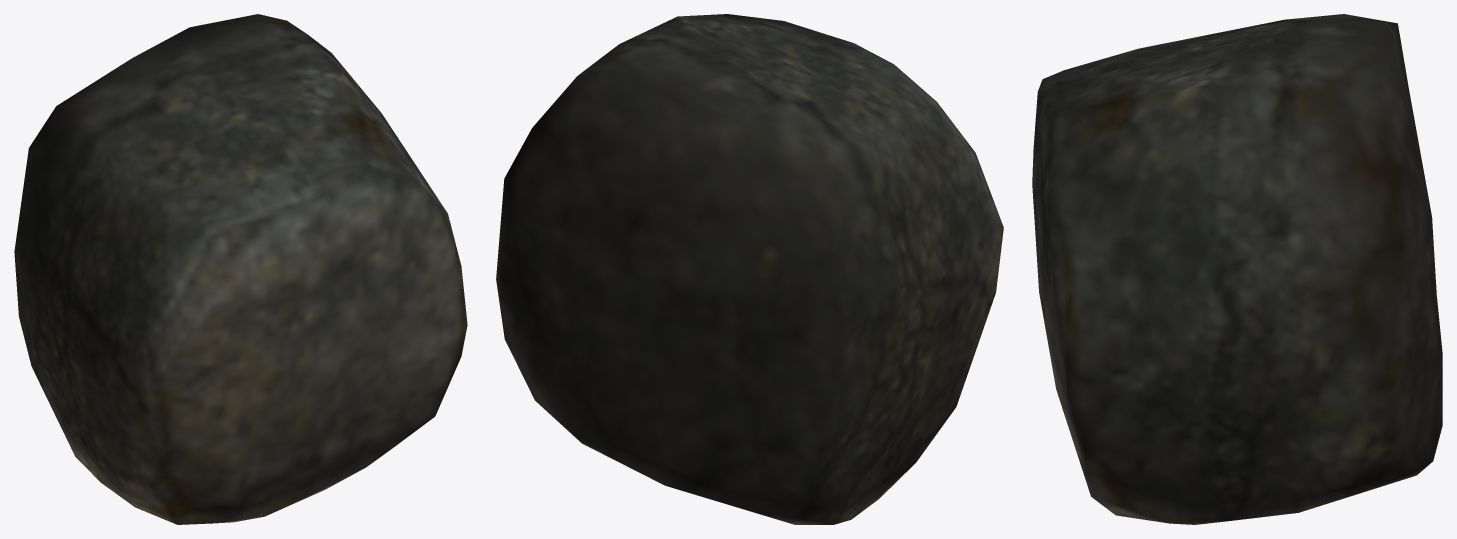
File: rock_small_03.obj
3 views of the same model, side by side, from view 1: azimuth 30°, elevation 25°; view 2: azimuth 150°, elevation 25°; view 3: azimuth 270°, elevation 25° (orthographic). The views are drawn at different scales.
Visible parts, largest first — view 1: rock_small_03; view 2: rock_small_03; view 3: rock_small_03.
Boxes of the visible parts, left/top/right/bottom form: rock_small_03: left=14, top=14, right=467, bottom=524; rock_small_03: left=496, top=14, right=1003, bottom=524; rock_small_03: left=1032, top=14, right=1442, bottom=524.
Bounding box in the file's own units: 1.82 × 2 × 1.55.
1 material, 1 textured.
